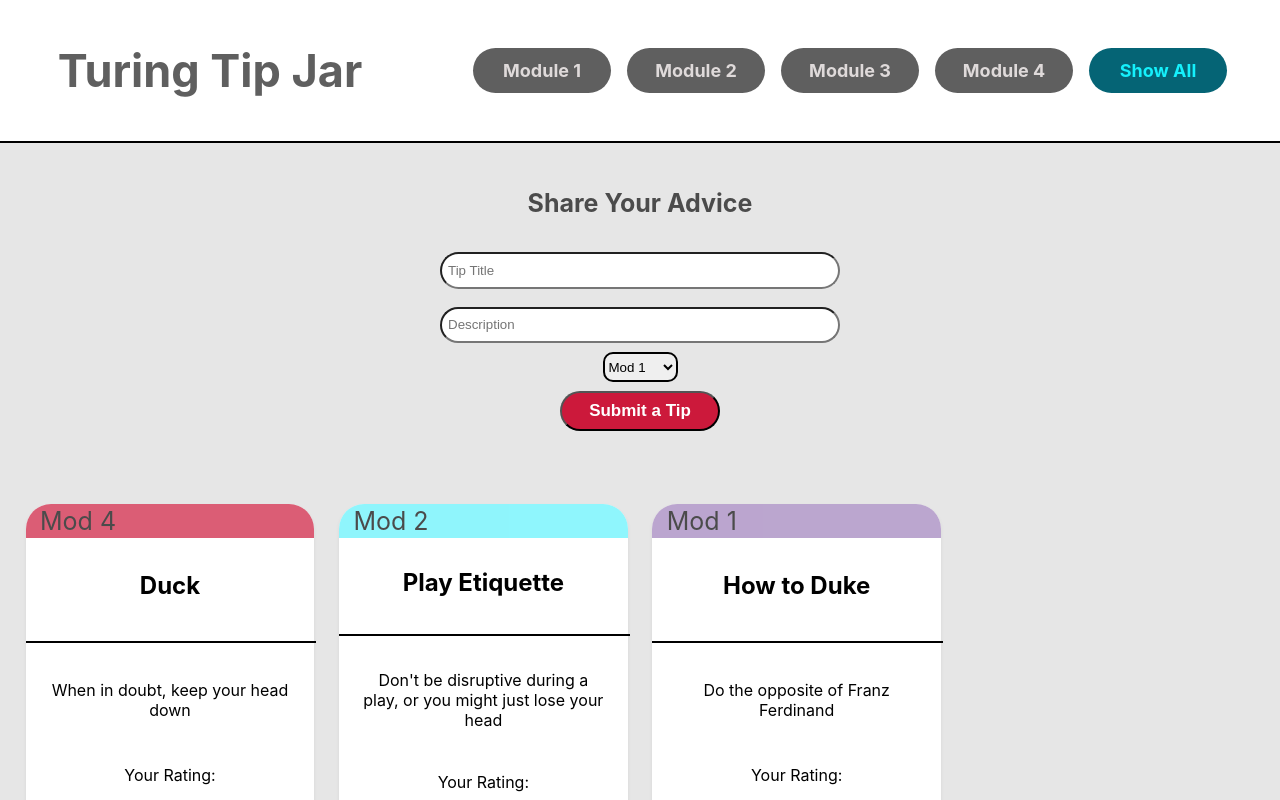
Test: Home Page › Should show an error message if title input is longer than 50 characters
Type "This is a really long title and I have a lot to say but I probably should have placed this in the description and not in the title but when you have this much to say you cannot be contained. No one di" into the field with placeholder "Tip Title". click: (641, 271)
box: [440, 252, 841, 289]
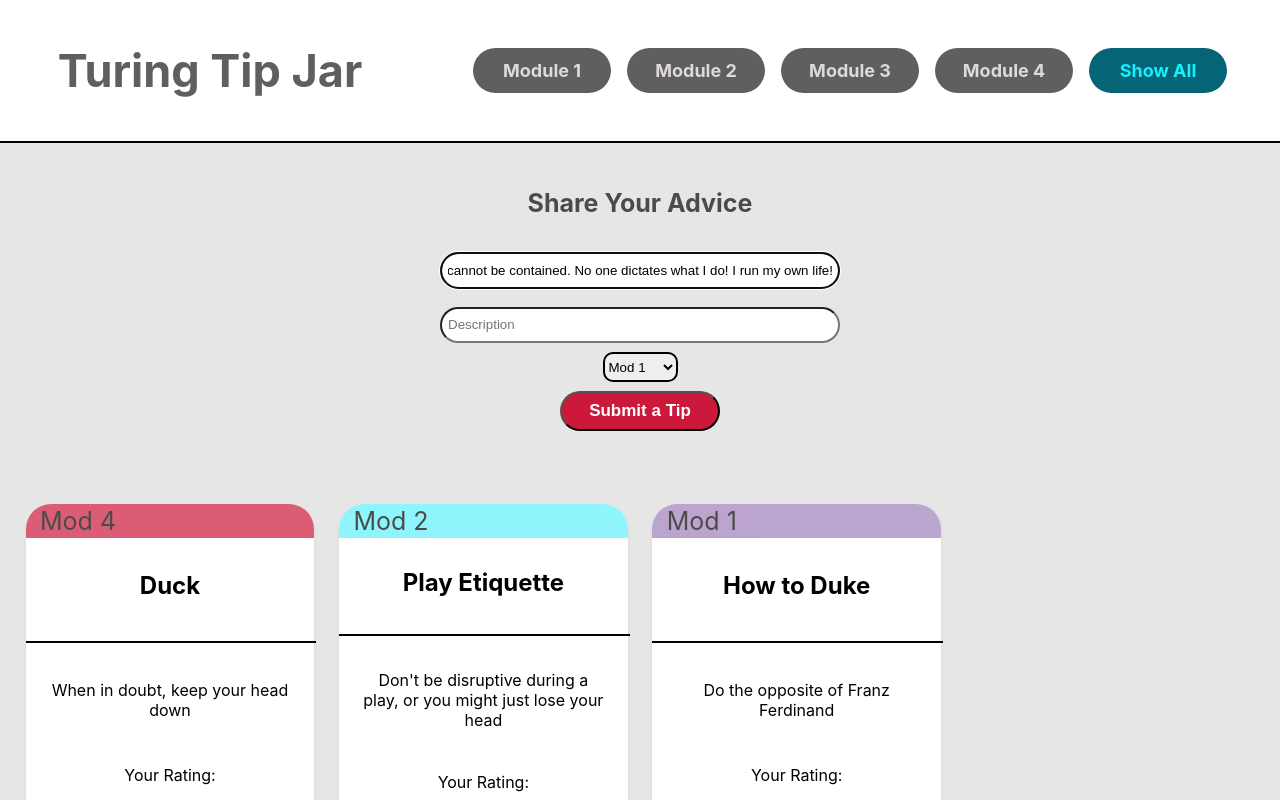
Type "Text for description" into the field with placeholder "Description". click: (641, 326)
box: [440, 307, 841, 344]
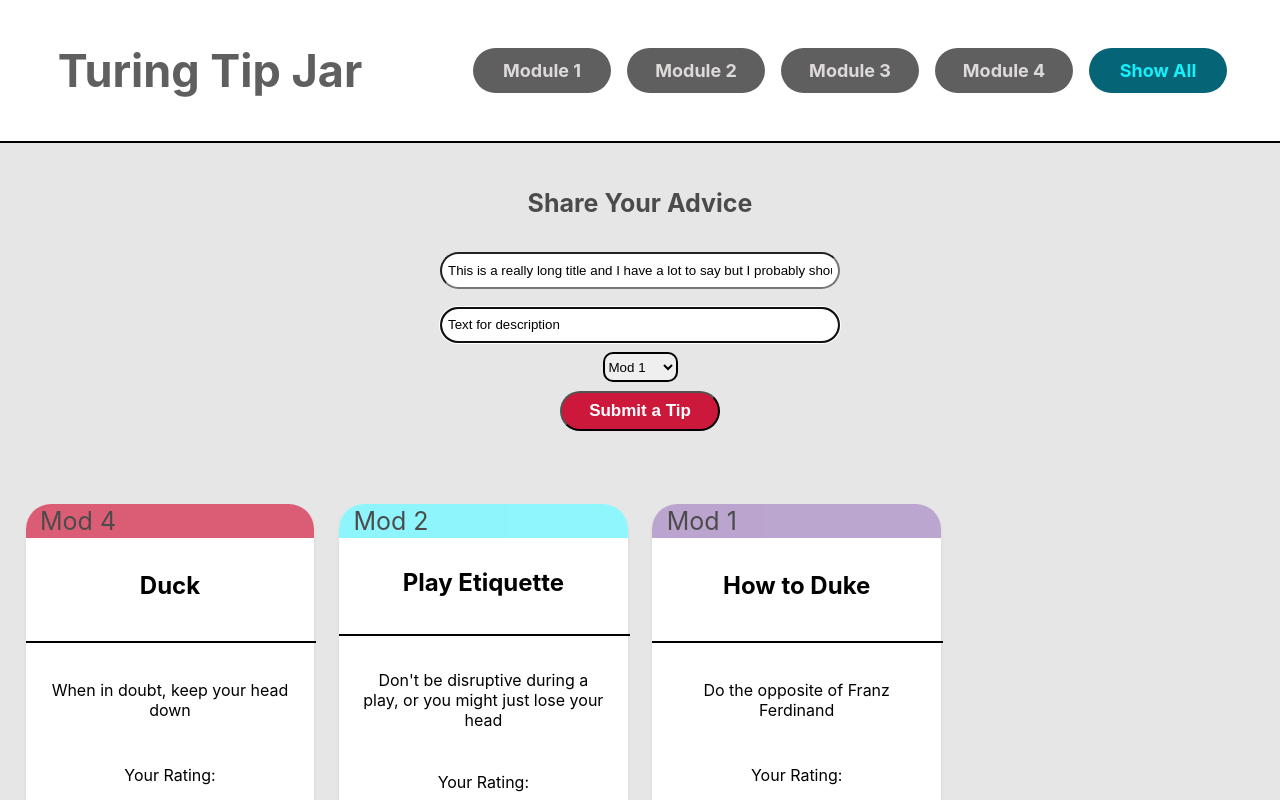
Click the button with class "new-tip-button". click: click(640, 411)
box: [560, 391, 720, 431]
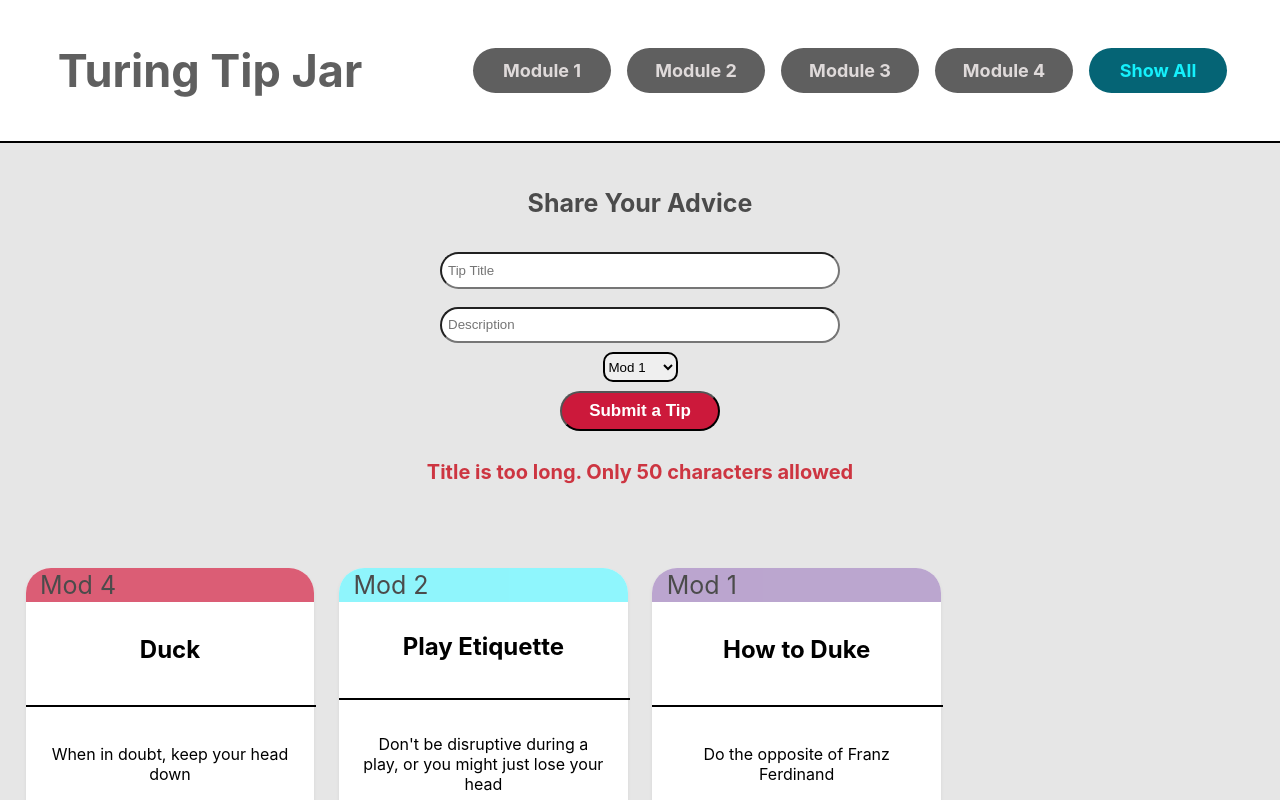
Now the text "Title is too long. Only 50 characters allowed" is shown, box [427, 460, 853, 484]
